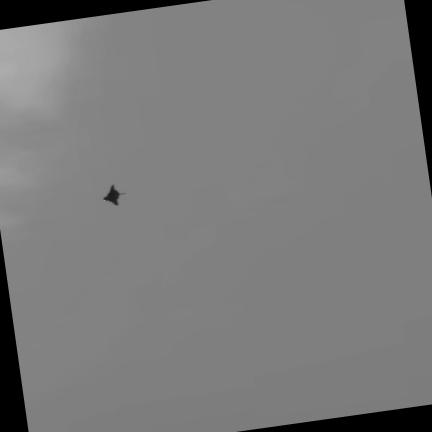Shahed: (104, 185, 124, 205)
